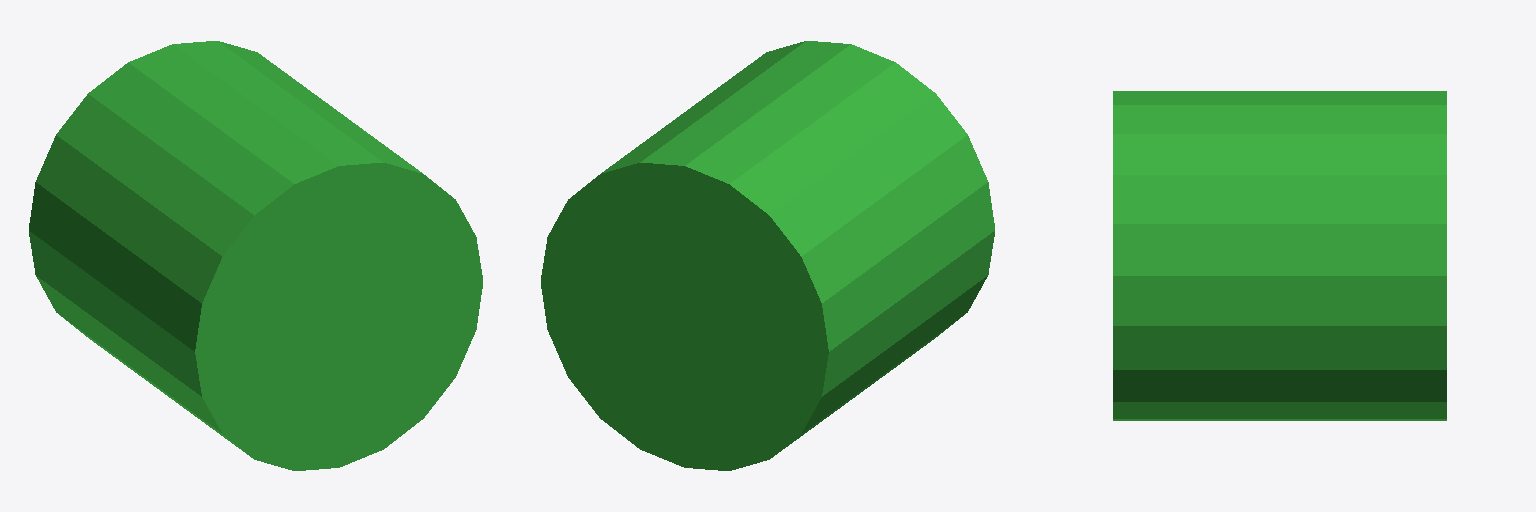
Rendered from cylinder_green.obj.
The picture shows the model from 3 angles: view 1: azimuth 30°, elevation 25°; view 2: azimuth 150°, elevation 25°; view 3: azimuth 270°, elevation 25°; orthographic projection.
Parts seen in each view (by area): view 1: obj_0; view 2: obj_0; view 3: obj_0.
Boxes of the visible parts, box(x1,y1,x2,y2) form: obj_0: box(29, 41, 482, 470); obj_0: box(541, 41, 994, 470); obj_0: box(1113, 91, 1446, 420).
Bounding box in the file's own units: 20 × 20 × 20.